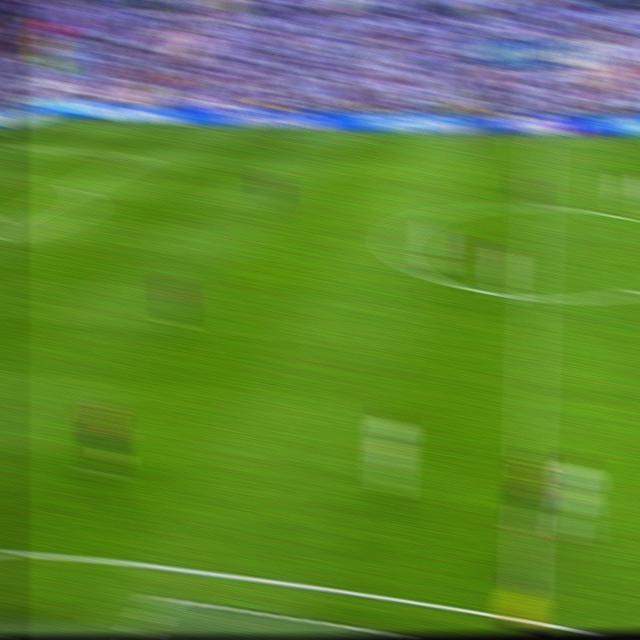corner: (40, 113, 63, 126)
halfcircle_bottom: (521, 284, 547, 311)
halfcircle_top: (525, 194, 550, 218)
midline_top_intersection: (530, 133, 550, 147)
